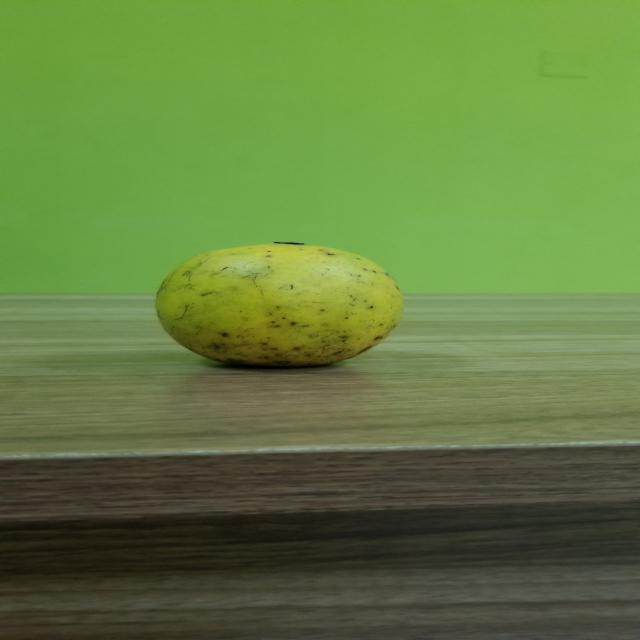agrume: (143, 237, 414, 368)
